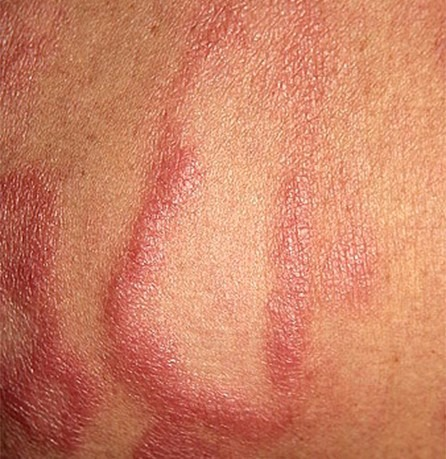Leprosy: (98, 0, 377, 448), (0, 155, 98, 447), (0, 0, 81, 125)
